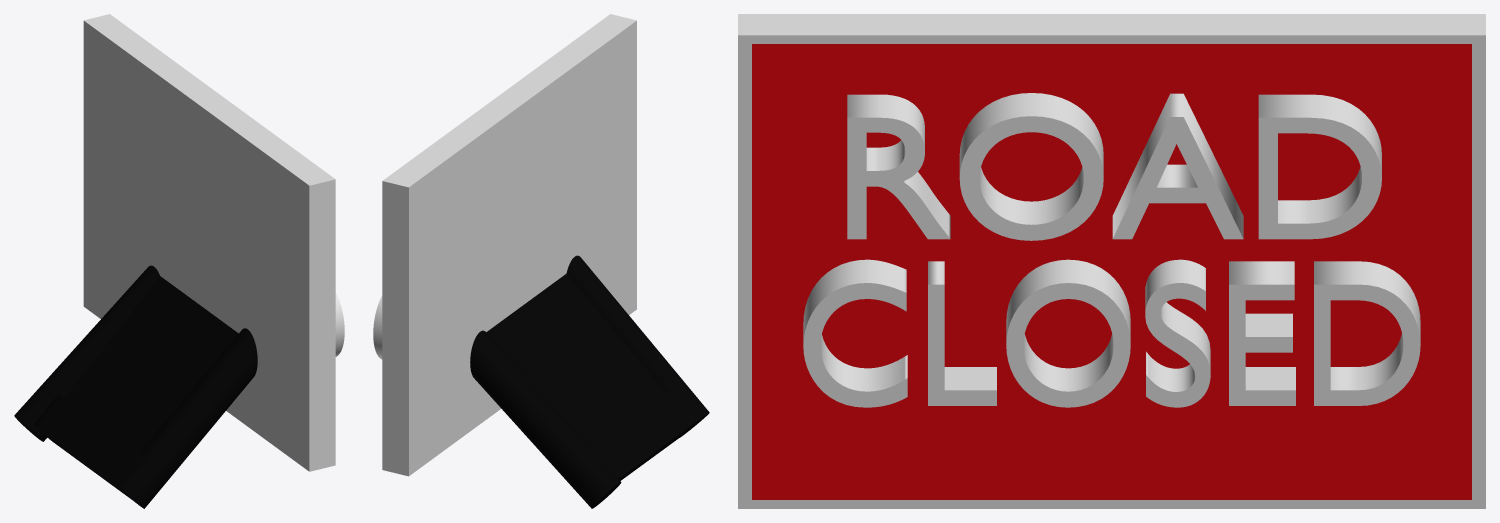
The model's file is uk_road_closed.fbx.
The picture shows the model from 3 angles, left to right: view 1: azimuth 30°, elevation 25°; view 2: azimuth 150°, elevation 25°; view 3: azimuth 270°, elevation 25°; orthographic projection. The views are drawn at different scales.
Parts seen in each view (by area): view 1: Cube, Cylinder.001, Cylinder, Text.001; view 2: Cube, Cylinder.001, Cylinder, Text.001; view 3: Cube, Text.001, Text.
Boxes of the visible parts, bbox=[...] form: Cube: bbox=[83, 14, 335, 471]; Cylinder.001: bbox=[34, 276, 257, 508]; Cylinder: bbox=[14, 265, 159, 441]; Text.001: bbox=[335, 292, 344, 356]; Cube: bbox=[382, 14, 636, 476]; Cylinder.001: bbox=[486, 255, 709, 480]; Cylinder: bbox=[470, 330, 621, 508]; Text.001: bbox=[373, 295, 382, 359]; Cube: bbox=[738, 14, 1485, 508]; Text.001: bbox=[803, 259, 1420, 407]; Text: bbox=[847, 93, 1381, 240].
Size of the model in its own units: 5.58 by 9.48 by 11.42.
